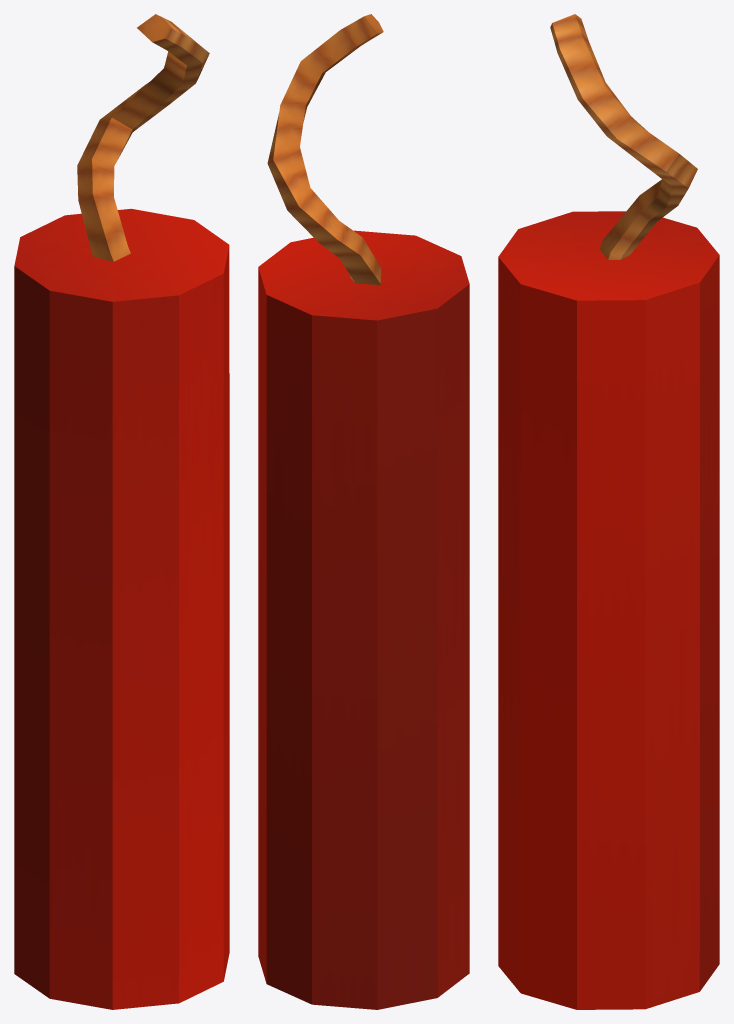
File: Dynamite_02.fbx
3 views of the same model, side by side, from view 1: azimuth 30°, elevation 25°; view 2: azimuth 150°, elevation 25°; view 3: azimuth 270°, elevation 25° (orthographic). The views are drawn at different scales.
Visible parts, largest first — view 1: Dynamite_02; view 2: Dynamite_02; view 3: Dynamite_02.
Part boxes in pixels (x1=…): Dynamite_02: x1=14, y1=14, x2=229, y2=1009; Dynamite_02: x1=258, y1=14, x2=469, y2=1009; Dynamite_02: x1=498, y1=14, x2=719, y2=1009.
Bounding box in the file's own units: 120 × 601 × 126.
